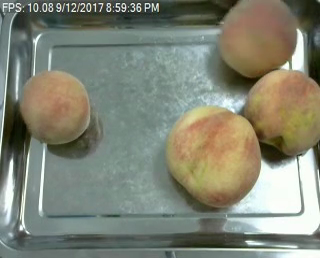Peach: (166, 104, 262, 209), (244, 68, 320, 155), (218, 0, 297, 77), (20, 68, 91, 146)
